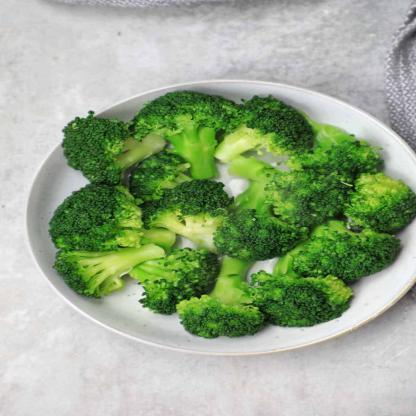broccoli: (56, 92, 416, 339)
